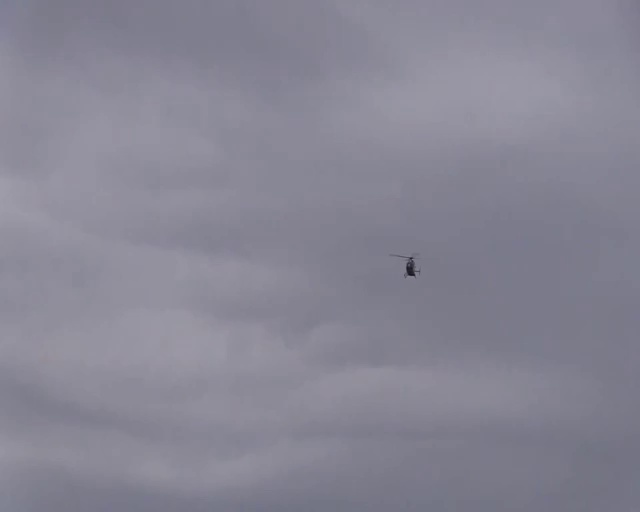HELICOPTER: (389, 253, 420, 278)
